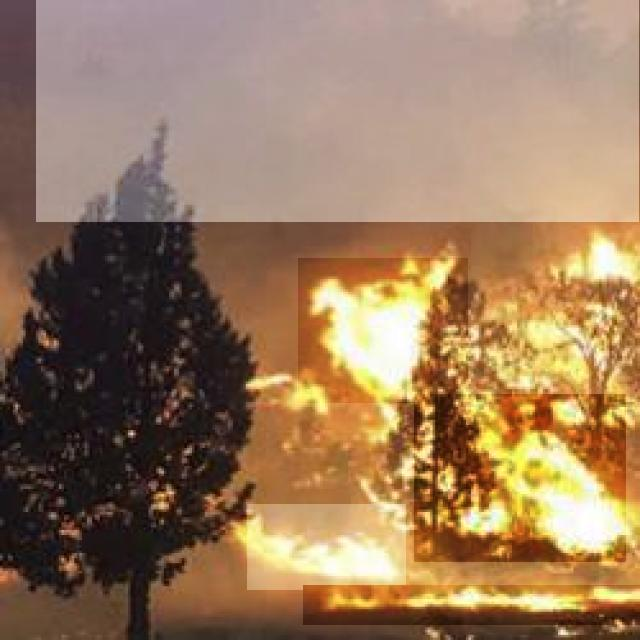Fire: (414, 394, 626, 562), (298, 258, 468, 403), (533, 221, 640, 443), (247, 504, 406, 590), (303, 585, 640, 625)
Smoke: (36, 0, 639, 222)
